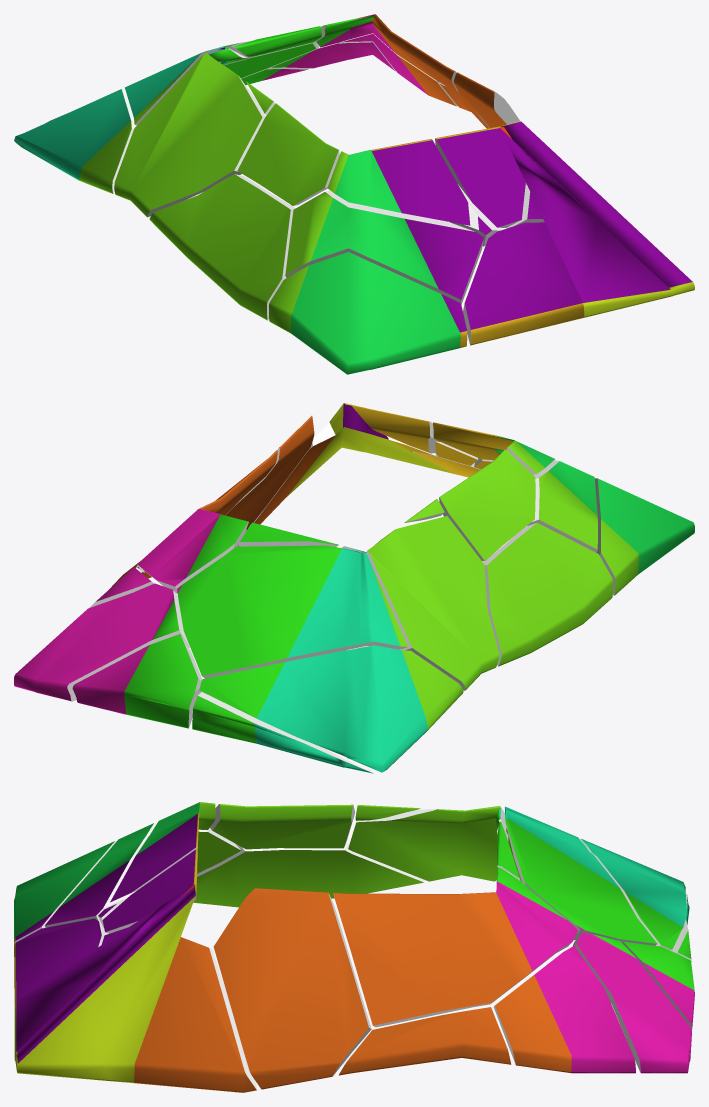
The model's file is Structure_Tower_Knight_Human_03_debris_cells_rooftop_01.fbx.
3 views of the same model, one above another, from view 1: azimuth 30°, elevation 25°; view 2: azimuth 150°, elevation 25°; view 3: azimuth 270°, elevation 25° (orthographic). The views are drawn at different scales.
Parts seen in each view (by area): view 1: Structure_Tower_Knight_Human_03.003_cell.003, Structure_Tower_Knight_Human_03.003_cell.005, Structure_Tower_Knight_Human_03.003_cell.012, Structure_Tower_Knight_Human_03.003_cell.017, Structure_Tower_Knight_Human_03.003_cell.011, Structure_Tower_Knight_Human_03.003_cell, Structure_Tower_Knight_Human_03.003_cell.007, Structure_Tower_Knight_Human_03.003_cell.022, Structure_Tower_Knight_Human_03.003_cell.008, Structure_Tower_Knight_Human_03.003_cell.021, Structure_Tower_Knight_Human_03.003_cell.001, Structure_Tower_Knight_Human_03.003_cell.010 (+6 smaller); view 2: Structure_Tower_Knight_Human_03.003_cell.001, Structure_Tower_Knight_Human_03.003_cell.022, Structure_Tower_Knight_Human_03.003_cell.012, Structure_Tower_Knight_Human_03.003_cell.011, Structure_Tower_Knight_Human_03.003_cell.013, Structure_Tower_Knight_Human_03.003_cell.015, Structure_Tower_Knight_Human_03.003_cell.008, Structure_Tower_Knight_Human_03.003_cell.003, Structure_Tower_Knight_Human_03.003_cell.010, Structure_Tower_Knight_Human_03.003_cell.005, Structure_Tower_Knight_Human_03.003_cell.017, Structure_Tower_Knight_Human_03.003_cell.019 (+6 smaller); view 3: Structure_Tower_Knight_Human_03.003_cell.005, Structure_Tower_Knight_Human_03.003_cell.010, Structure_Tower_Knight_Human_03.003_cell.020, Structure_Tower_Knight_Human_03.003_cell.018, Structure_Tower_Knight_Human_03.003_cell.001, Structure_Tower_Knight_Human_03.003_cell.012, Structure_Tower_Knight_Human_03.003_cell.011, Structure_Tower_Knight_Human_03.003_cell.013, Structure_Tower_Knight_Human_03.003_cell.023, Structure_Tower_Knight_Human_03.003_cell.008, Structure_Tower_Knight_Human_03.003_cell.017, Structure_Tower_Knight_Human_03.003_cell.022 (+8 smaller).
Boxes of the visible parts, x1,y1,x2,y2 form: Structure_Tower_Knight_Human_03.003_cell.003: (268, 252, 467, 374); Structure_Tower_Knight_Human_03.003_cell.005: (498, 121, 694, 317); Structure_Tower_Knight_Human_03.003_cell.012: (114, 48, 265, 217); Structure_Tower_Knight_Human_03.003_cell.017: (285, 190, 483, 304); Structure_Tower_Knight_Human_03.003_cell.011: (149, 174, 295, 320); Structure_Tower_Knight_Human_03.003_cell: (463, 222, 584, 345); Structure_Tower_Knight_Human_03.003_cell.007: (327, 139, 470, 225); Structure_Tower_Knight_Human_03.003_cell.022: (14, 88, 136, 193); Structure_Tower_Knight_Human_03.003_cell.008: (237, 103, 339, 205); Structure_Tower_Knight_Human_03.003_cell.021: (435, 126, 525, 227); Structure_Tower_Knight_Human_03.003_cell.001: (125, 41, 316, 125); Structure_Tower_Knight_Human_03.003_cell.010: (316, 14, 489, 128); Structure_Tower_Knight_Human_03.003_cell.001: (177, 545, 408, 678); Structure_Tower_Knight_Human_03.003_cell.022: (199, 645, 463, 772); Structure_Tower_Knight_Human_03.003_cell.012: (341, 516, 499, 690); Structure_Tower_Knight_Human_03.003_cell.011: (483, 523, 613, 666); Structure_Tower_Knight_Human_03.003_cell.013: (14, 583, 189, 701); Structure_Tower_Knight_Human_03.003_cell.015: (72, 634, 201, 728); Structure_Tower_Knight_Human_03.003_cell.008: (439, 449, 535, 561); Structure_Tower_Knight_Human_03.003_cell.003: (594, 478, 694, 595); Structure_Tower_Knight_Human_03.003_cell.010: (137, 450, 277, 593); Structure_Tower_Knight_Human_03.003_cell.005: (238, 403, 453, 546); Structure_Tower_Knight_Human_03.003_cell.017: (474, 458, 597, 552); Structure_Tower_Knight_Human_03.003_cell.019: (192, 692, 373, 773); Structure_Tower_Knight_Human_03.003_cell.005: (14, 884, 257, 1092); Structure_Tower_Knight_Human_03.003_cell.010: (333, 867, 577, 1027); Structure_Tower_Knight_Human_03.003_cell.020: (213, 888, 371, 1089); Structure_Tower_Knight_Human_03.003_cell.018: (493, 945, 635, 1073); Structure_Tower_Knight_Human_03.003_cell.001: (504, 806, 657, 945); Structure_Tower_Knight_Human_03.003_cell.012: (348, 806, 517, 881); Structure_Tower_Knight_Human_03.003_cell.011: (193, 843, 424, 907); Structure_Tower_Knight_Human_03.003_cell.013: (572, 932, 691, 1073); Structure_Tower_Knight_Human_03.003_cell.023: (338, 1007, 511, 1075); Structure_Tower_Knight_Human_03.003_cell.008: (210, 804, 355, 849); Structure_Tower_Knight_Human_03.003_cell.017: (44, 823, 241, 927); Structure_Tower_Knight_Human_03.003_cell.022: (517, 838, 687, 950).
Bounding box in the file's own units: 635 × 261 × 987.
